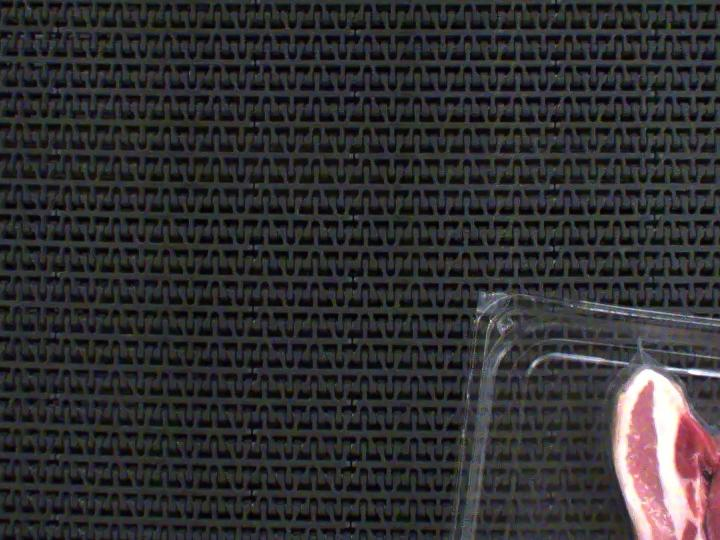packaging-error: (624, 329, 659, 367)
unsealed: (600, 358, 720, 451)
